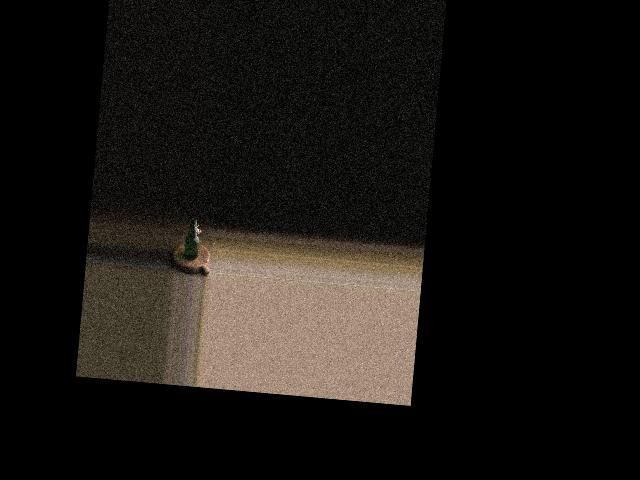beer: (184, 216, 201, 259)
